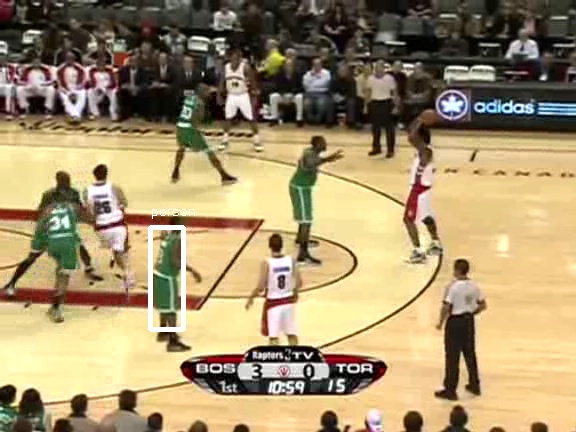person: (152, 234, 186, 315), (151, 234, 185, 315), (153, 234, 187, 315), (152, 233, 186, 314), (152, 235, 186, 316)
target_negative: (76, 168, 459, 414), (133, 124, 313, 240), (85, 111, 358, 171), (257, 125, 352, 187), (279, 417, 494, 429), (38, 392, 164, 400)
